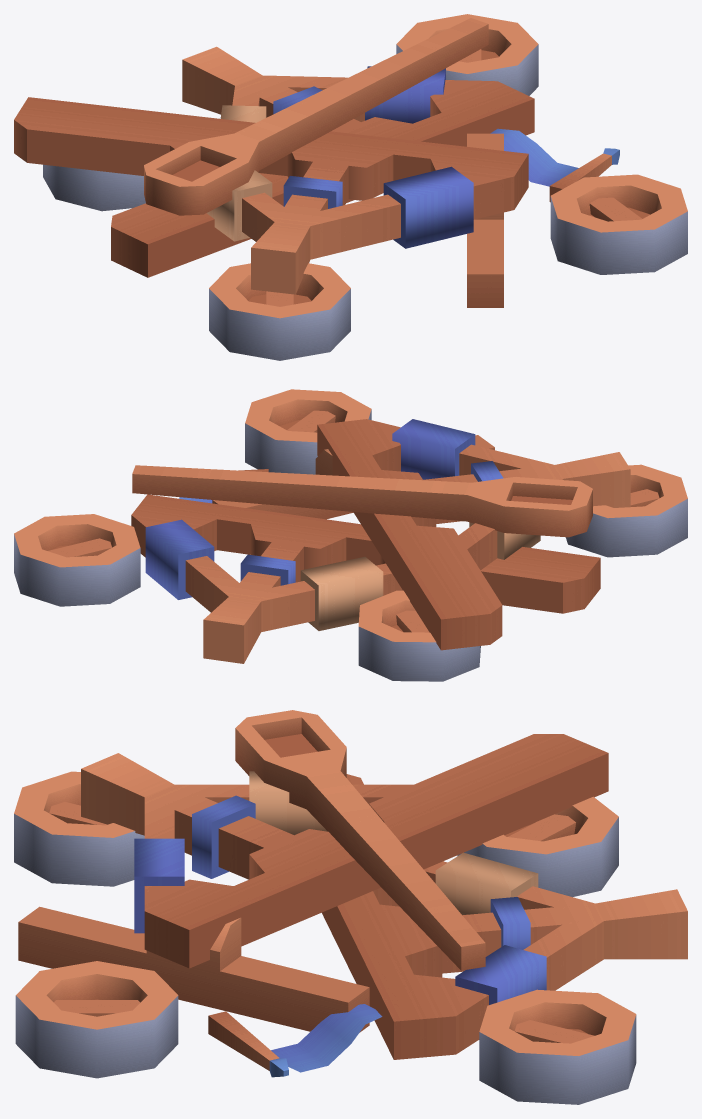
Rendered from siege-catapult-demolished.glb.
The picture shows the model from 3 angles, top to bottom: view 1: azimuth 30°, elevation 25°; view 2: azimuth 150°, elevation 25°; view 3: azimuth 270°, elevation 25°; orthographic projection. The views are drawn at different scales.
Parts seen in each view (by area): view 1: siege-catapult-demolished; view 2: siege-catapult-demolished; view 3: siege-catapult-demolished.
Boxes of the visible parts, bbox=[...] form: siege-catapult-demolished: bbox=[14, 14, 687, 360]; siege-catapult-demolished: bbox=[14, 389, 687, 681]; siege-catapult-demolished: bbox=[14, 710, 687, 1104].
Size of the model in its own units: 1.68 by 0.3213 by 1.67.
Materials: 1 (1 with a texture image).
